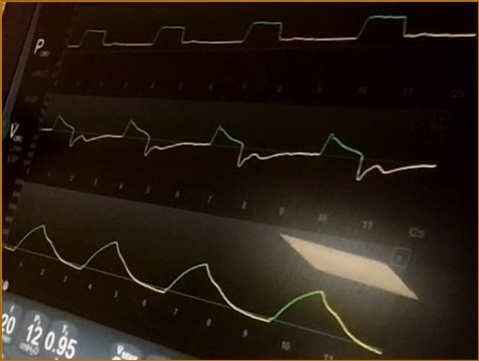Premature_cycling Flow: (40, 108, 435, 181)
Premature_cycling Volume: (3, 221, 380, 354)
